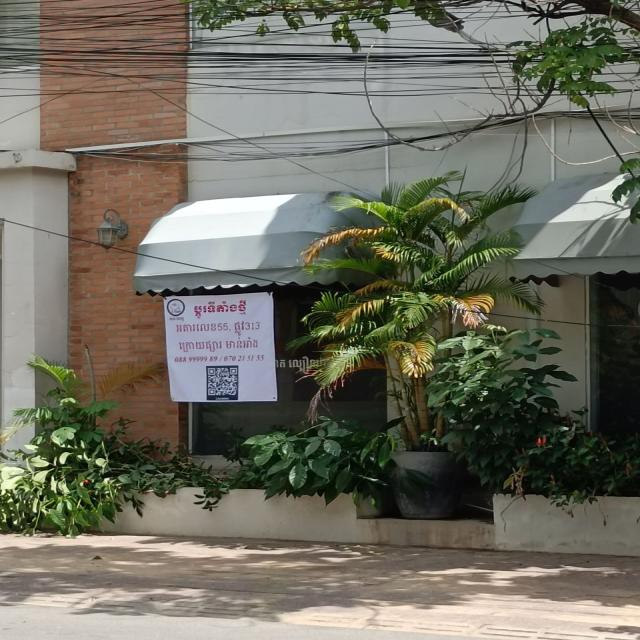420: (173, 352, 265, 364)
719: (245, 320, 262, 332)
787: (216, 322, 229, 333)
Yolov11_80vkh: (177, 336, 264, 353), (189, 298, 250, 320), (173, 322, 216, 336), (231, 320, 245, 336)
